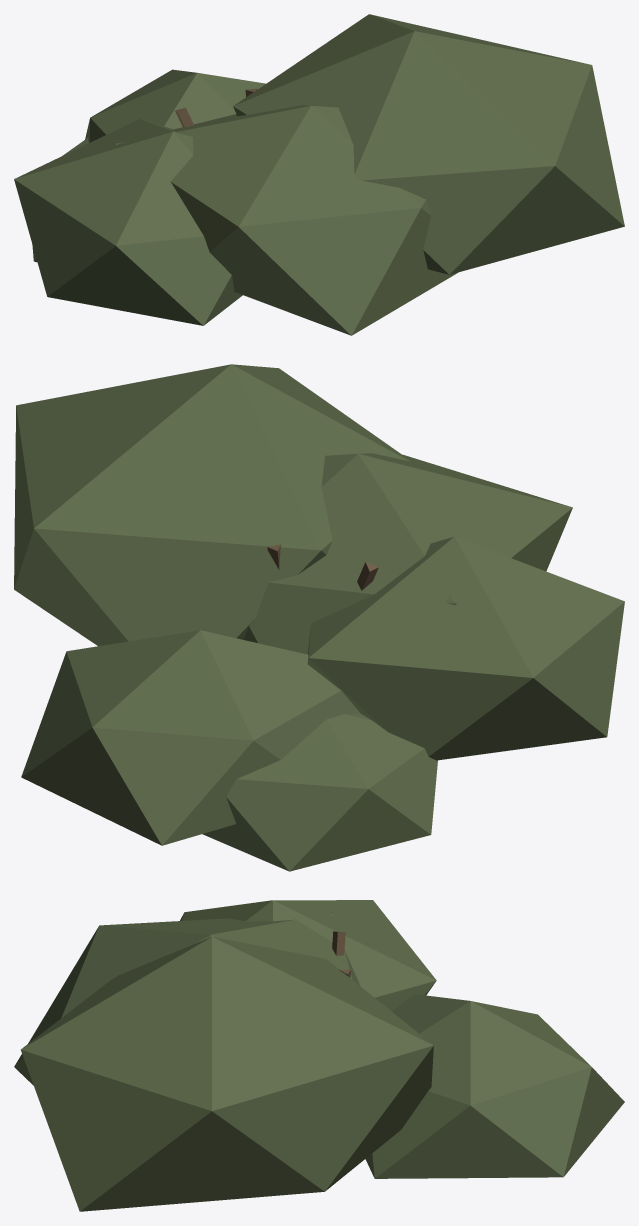
Rendered from scrub_1.glb.
3 views of the same model, one above another, from view 1: azimuth 30°, elevation 25°; view 2: azimuth 150°, elevation 25°; view 3: azimuth 270°, elevation 25° (orthographic). The views are drawn at different scales.
Parts seen in each view (by area): view 1: scrub_1; view 2: scrub_1; view 3: scrub_1.
Part boxes in pixels (x1,y1,x2,y2): scrub_1: (14,14,624,335); scrub_1: (14,364,624,871); scrub_1: (14,900,624,1211).
Bounding box in the file's own units: 2.16 × 1.03 × 2.08.
